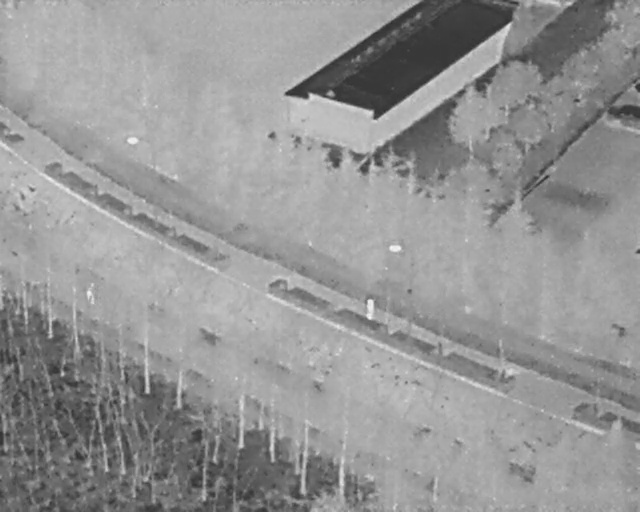Car: (603, 101, 639, 133)
Person: (363, 297, 376, 322), (84, 282, 97, 303)
